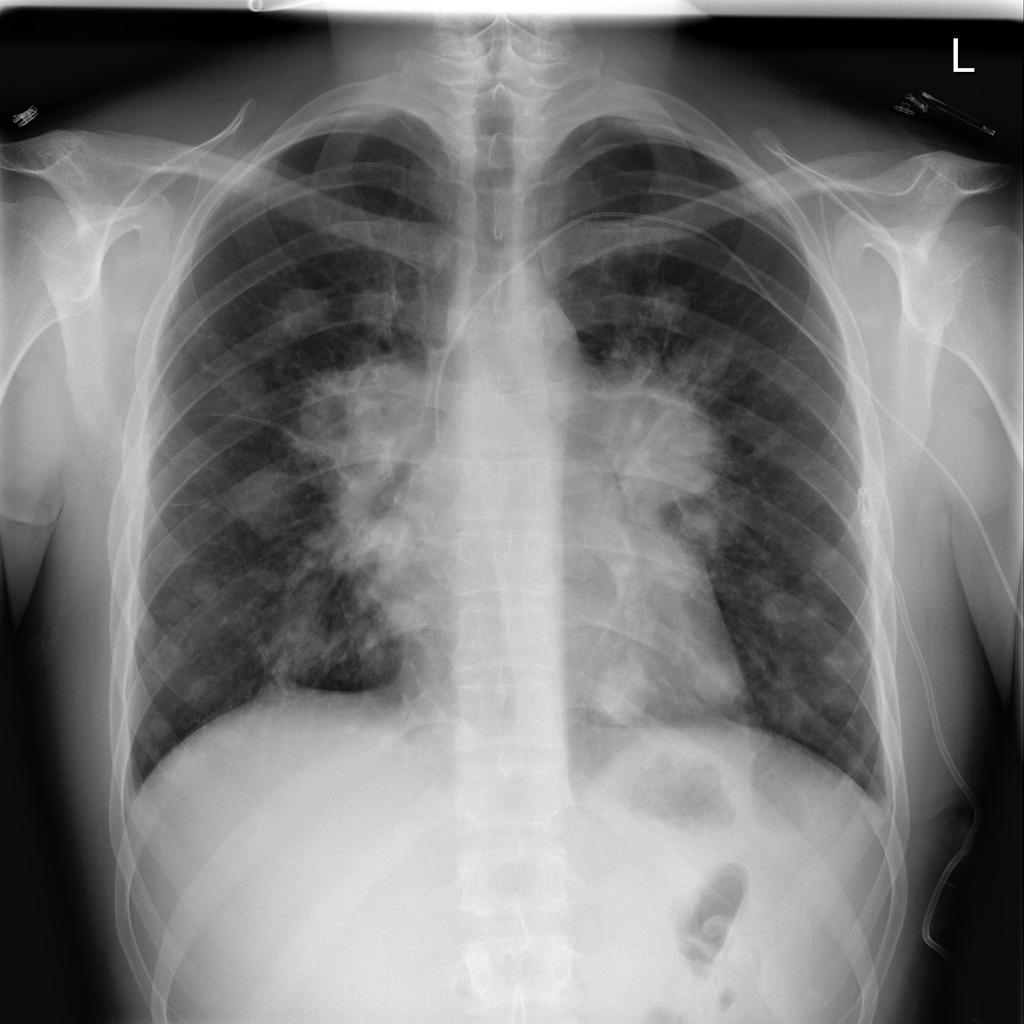nodule: (215, 448, 319, 551), (586, 648, 660, 734), (258, 274, 341, 349), (670, 322, 751, 398), (341, 271, 415, 345), (679, 646, 755, 716), (628, 268, 705, 337), (261, 623, 335, 687), (746, 555, 817, 621), (159, 568, 218, 624), (810, 645, 864, 695), (175, 664, 230, 712), (133, 704, 185, 753)
